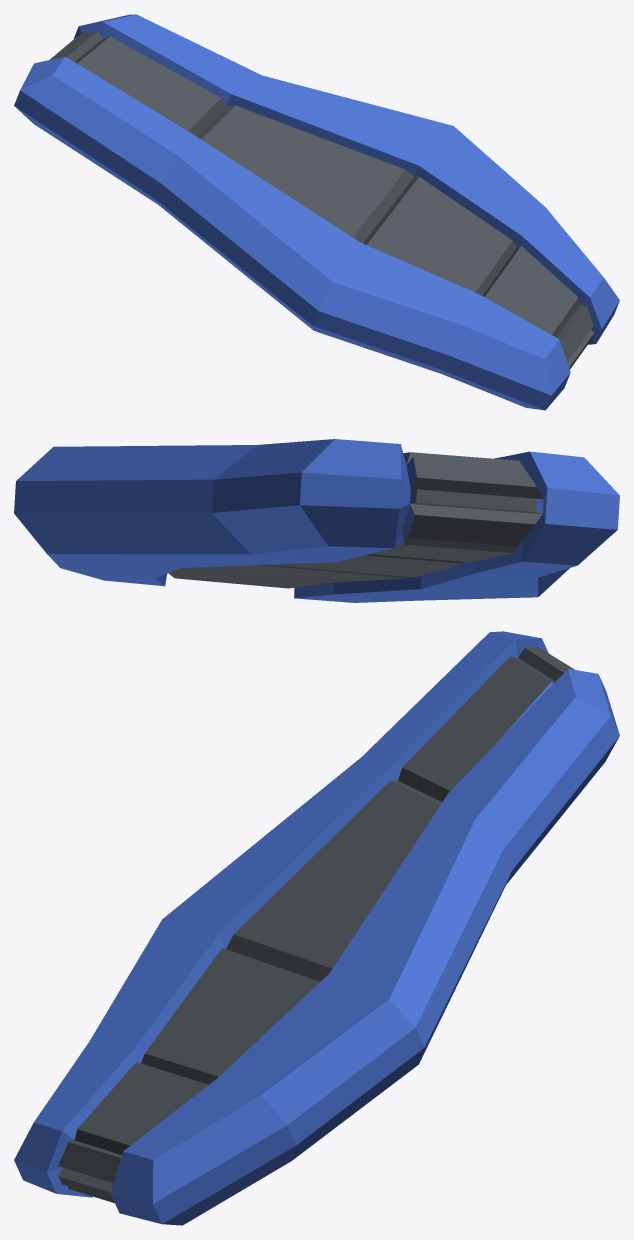
Rendered from Fighter_03_Right_Fin_Blue.fbx.
3 renders of one model, top to bottom at view 1: azimuth 30°, elevation 25°; view 2: azimuth 150°, elevation 25°; view 3: azimuth 270°, elevation 25°, orthographic. The views are drawn at different scales.
Visible parts, largest first — view 1: Fighter_03_Right_Fin_Blue; view 2: Fighter_03_Right_Fin_Blue; view 3: Fighter_03_Right_Fin_Blue.
Boxes of the visible parts, box(x1,y1,x2,y2) form: Fighter_03_Right_Fin_Blue: box(14, 14, 619, 410); Fighter_03_Right_Fin_Blue: box(14, 439, 619, 602); Fighter_03_Right_Fin_Blue: box(14, 631, 619, 1225).
Bounding box in the file's own units: 393 × 239 × 347.
1 material, 1 textured.
